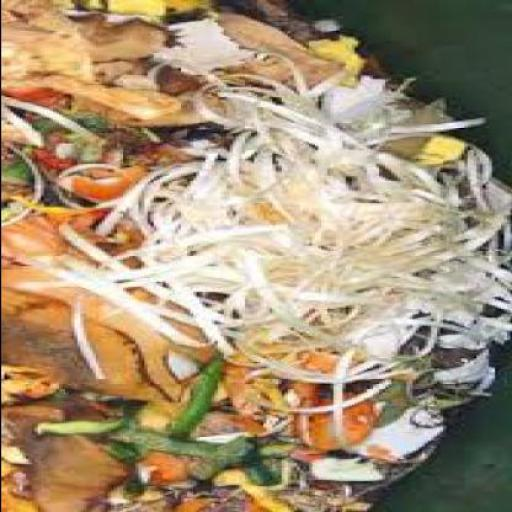biodegradable: (119, 80, 506, 390), (3, 263, 195, 398), (3, 94, 210, 216), (3, 296, 164, 402), (3, 406, 131, 511), (61, 64, 220, 128), (2, 206, 152, 268), (226, 10, 344, 86), (4, 22, 110, 89), (155, 359, 238, 440), (64, 14, 177, 62), (305, 390, 381, 448), (214, 468, 304, 510), (131, 382, 195, 434), (106, 430, 228, 457), (3, 0, 92, 36), (249, 0, 328, 39), (384, 131, 470, 166), (3, 362, 67, 404), (304, 36, 374, 74), (192, 408, 262, 444), (275, 376, 326, 418), (3, 404, 79, 432), (82, 0, 220, 12), (316, 458, 390, 480), (3, 468, 36, 510), (95, 442, 146, 466), (241, 454, 283, 483), (36, 421, 110, 437), (89, 394, 134, 415), (286, 444, 336, 457)
